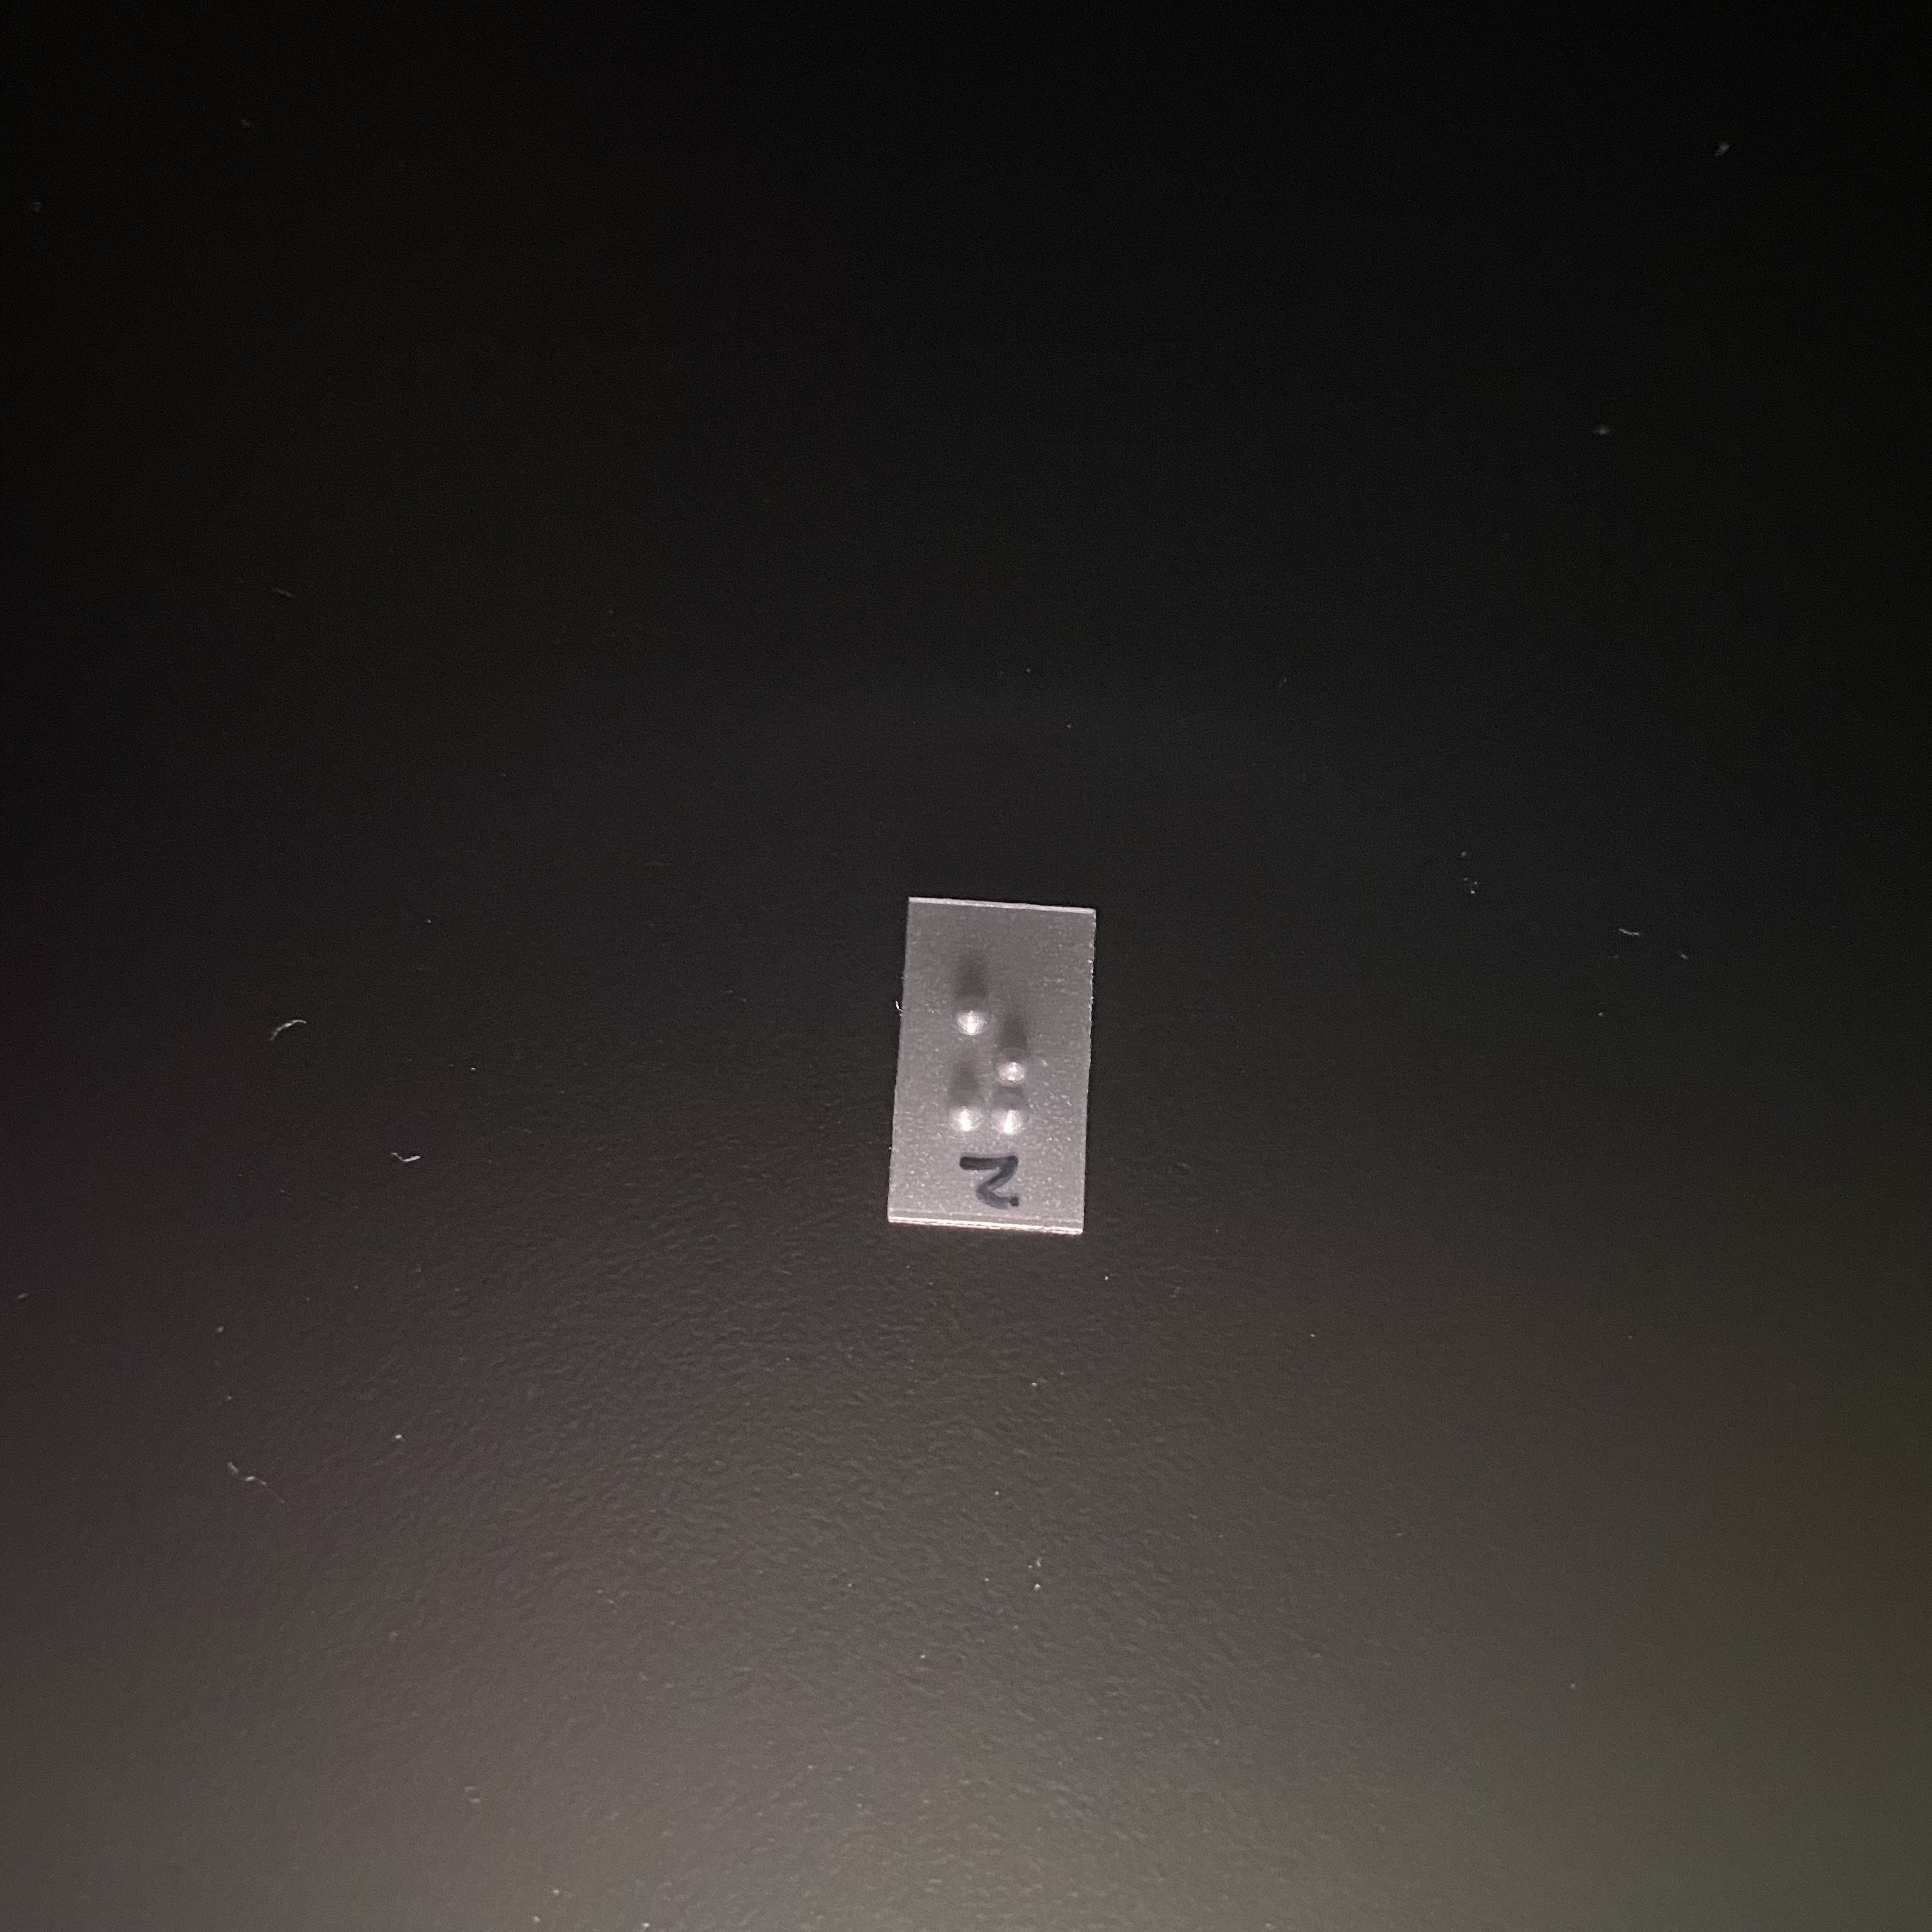z: (935, 949, 1045, 1135)
